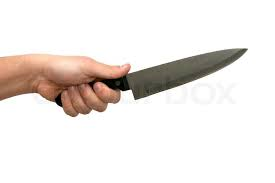weapon-unusual: (51, 45, 264, 110)
